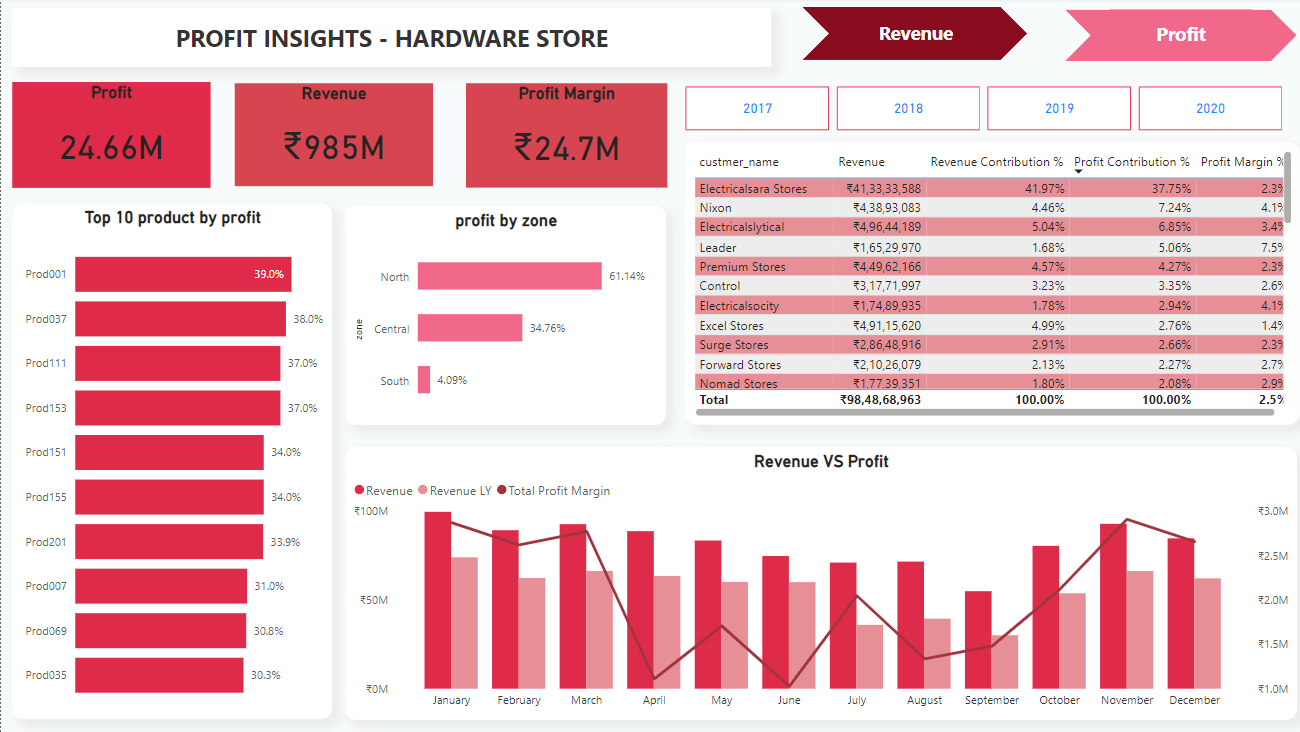

The page's visual inventory and layout, read from the dashboard file:
{"tool":"powerbi","page":{"name":"Profit Analysis ","canvas":[1280,720],"ordinal":2},"visuals":[{"type":"card","title":"Revenue","fields":{"Values":["BaseMeasures.Revenue"]},"box":[338.6,9.8,149.1,99],"z":0},{"type":"card","title":"Profit","fields":{"Values":["BaseMeasures.Profit"]},"box":[177.2,9.8,149.1,99],"z":1000},{"type":"card","title":"Profit Margin","fields":{"Values":["BaseMeasures.Total Profit Margin"]},"box":[498.7,9.8,149.1,99],"z":2000},{"type":"shape","box":[0,0,169,790],"z":3000},{"type":"slicer","fields":{"Values":["sales date.cy_date.Variation.Date Hierarchy.Year"]},"box":[661.3,17.1,278.7,63.6],"z":4000},{"type":"slicer","fields":{"Values":["sales date.cy_date"]},"box":[954.7,19.6,315.4,61.1],"z":5000},{"type":"shape","box":[177.2,130.8,529.3,579.4],"z":6000},{"type":"clusteredBarChart","fields":{"Category":["sales products.product_code"],"Y":["BaseMeasures.Profit Margin %"]},"box":[351.3,155.1,181.1,531],"z":7000},{"type":"clusteredBarChart","fields":{"Y":["BaseMeasures.Profit  Contribution %"],"Category":["sales markets.markets_name"]},"box":[178.4,152.3,160.5,533.8],"z":8000},{"type":"shape","box":[718.8,130.8,551.3,579.4],"z":10000},{"type":"tableEx","fields":{"Values":["sales customers.custmer_name","BaseMeasures.Revenue","BaseMeasures.Revenue  Contribution %","BaseMeasures.Profit  Contribution %","BaseMeasures.Profit Margin %"]},"box":[734.7,176,519.5,522],"z":11000},{"type":"shape","box":[0,223.7,168.7,51.3],"z":12000},{"type":"shape","box":[1.2,290.9,168.7,51.3],"z":13000},{"type":"shape","box":[0,360.6,168.7,51.3],"z":14000},{"type":"shape","box":[0,435.2,168.7,63.6],"z":15000},{"type":"textbox","box":[0,11,168.7,75.8],"z":16000},{"type":"shape","box":[14.7,47.7,140.6,57.5],"z":17000},{"type":"actionButton","box":[0,359.4,168.7,53.8],"z":18000},{"type":"clusteredBarChart","fields":{"Category":["sales markets.zone"],"Y":["BaseMeasures.Profit"]},"box":[542,152.3,164.7,533.8],"z":18001}]}

Visuals, with their boxes in screenshot pixels (x1, y1, x2, y2), scaled from the page's 1280x720 canvas onto the 1300x732 screenshot:
"Revenue" card: [344,10,495,111]
"Profit" card: [180,10,331,111]
"Profit Margin" card: [506,10,658,111]
shape: [0,0,172,731]
slicer - sales date.cy_date.Variation.Date Hierarchy.Year: [672,17,955,82]
slicer - sales date.cy_date: [970,20,1290,82]
shape: [180,133,718,722]
clusteredBarChart - sales products.product_code x BaseMeasures.Profit Margin %: [357,158,541,698]
clusteredBarChart - BaseMeasures.Profit  Contribution % x sales markets.markets_name: [181,155,344,698]
shape: [730,133,1290,722]
tableEx - sales customers.custmer_name x BaseMeasures.Revenue: [746,179,1274,710]
shape: [0,227,171,280]
shape: [1,296,173,348]
shape: [0,367,171,419]
shape: [0,442,171,507]
textbox: [0,11,171,88]
shape: [15,48,158,107]
actionButton: [0,365,171,420]
clusteredBarChart - sales markets.zone x BaseMeasures.Profit: [550,155,718,698]
